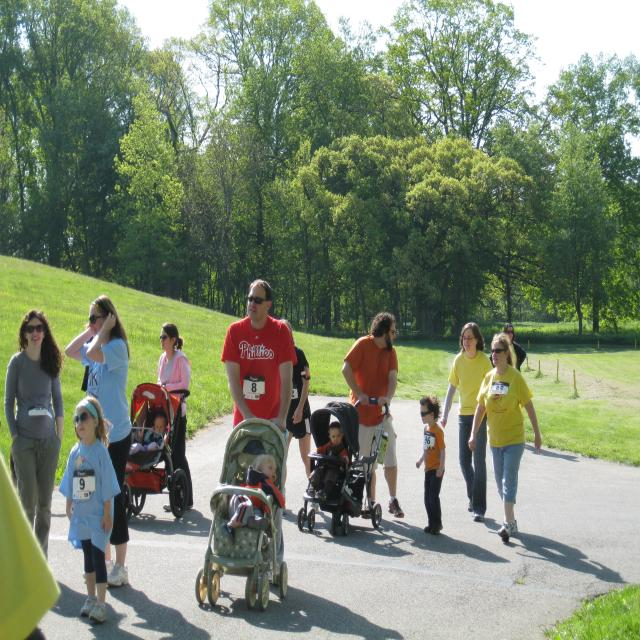body: (62, 294, 142, 590), (2, 309, 64, 565), (60, 396, 122, 626), (341, 310, 405, 524), (220, 278, 296, 434), (0, 451, 62, 640), (439, 321, 495, 522), (274, 317, 320, 514), (156, 322, 194, 512), (225, 451, 286, 544), (413, 394, 447, 538), (308, 418, 353, 499), (490, 323, 527, 373), (128, 414, 168, 456)
